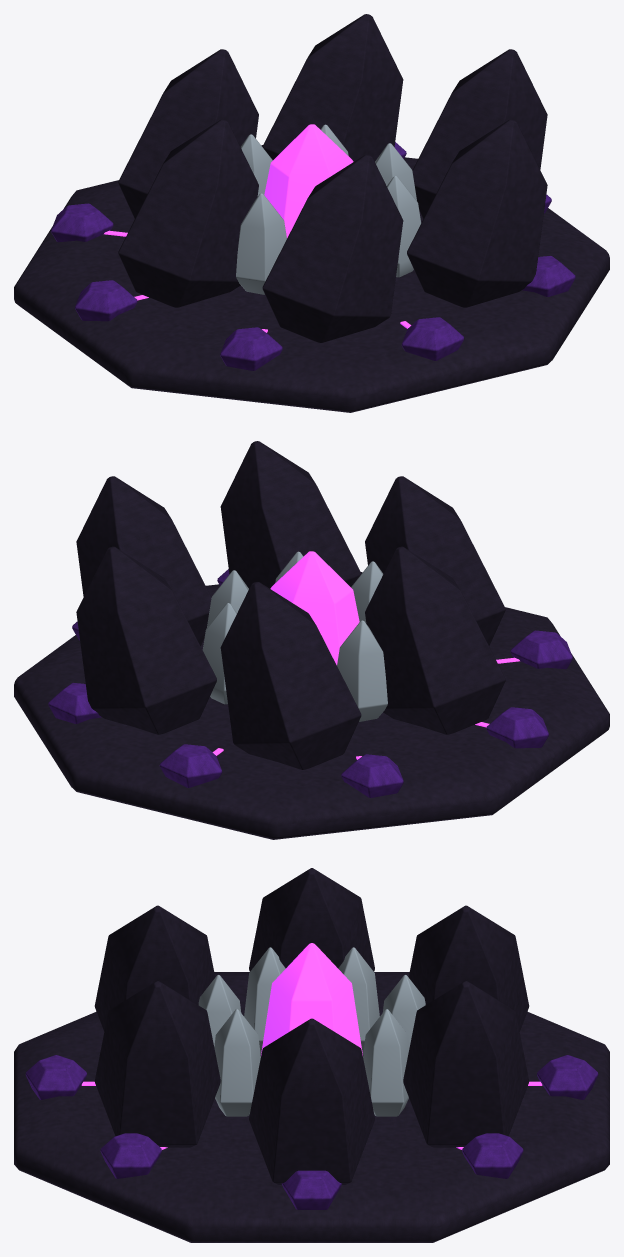
File: conclave_geode_de_stockage.gltf
3 renders of one model, top to bottom at view 1: azimuth 30°, elevation 25°; view 2: azimuth 150°, elevation 25°; view 3: azimuth 270°, elevation 25°, orthographic. The views are drawn at different scales.
Parts seen in each view (by area): view 1: Root.008_Geometry; view 2: Root.008_Geometry; view 3: Root.008_Geometry.
Boxes of the visible parts, x1,y1,x2,y2 form: Root.008_Geometry: (14, 14, 609, 412); Root.008_Geometry: (14, 441, 609, 839); Root.008_Geometry: (14, 868, 609, 1242).
Size of the model in its own units: 3.92 by 1.48 by 3.92.
Materials: 4 (2 with a texture image).
